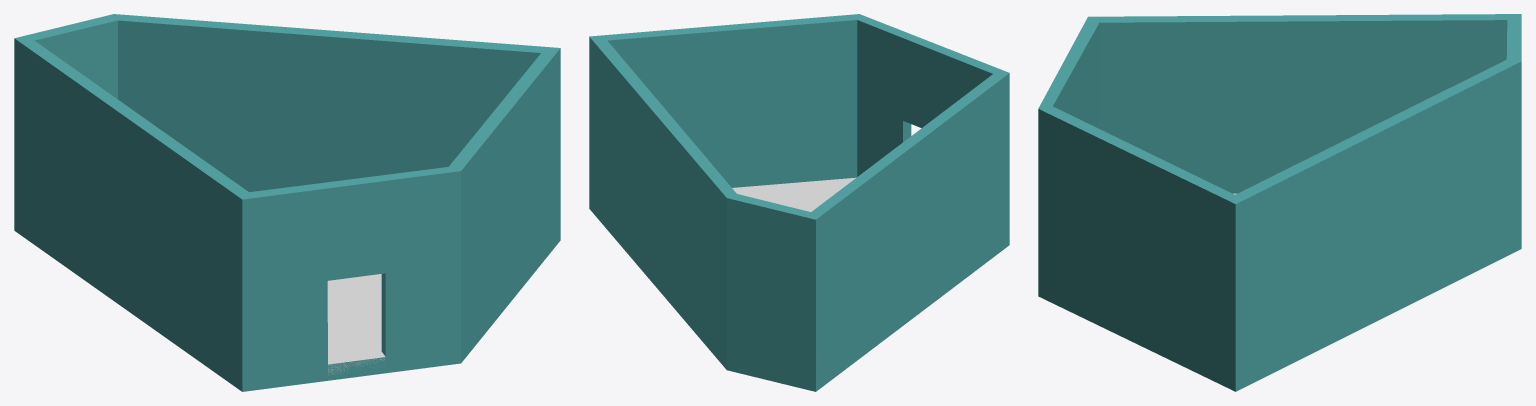
The picture shows the model from 3 angles, left to right: view 1: azimuth 30°, elevation 25°; view 2: azimuth 150°, elevation 25°; view 3: azimuth 270°, elevation 25°; orthographic projection. The views are drawn at different scales.
Parts seen in each view (by area): view 1: sala 5, sala 5.001; view 2: sala 5, sala 5.001; view 3: sala 5.
Boxes of the visible parts, box(x1,y1,x2,y2) form: sala 5: box(14, 14, 560, 391); sala 5.001: box(327, 274, 385, 374); sala 5: box(589, 14, 1009, 391); sala 5.001: box(732, 177, 855, 211); sala 5: box(1038, 14, 1521, 391).
Bounding box in the file's own units: 5266 × 2422 × 5653.
